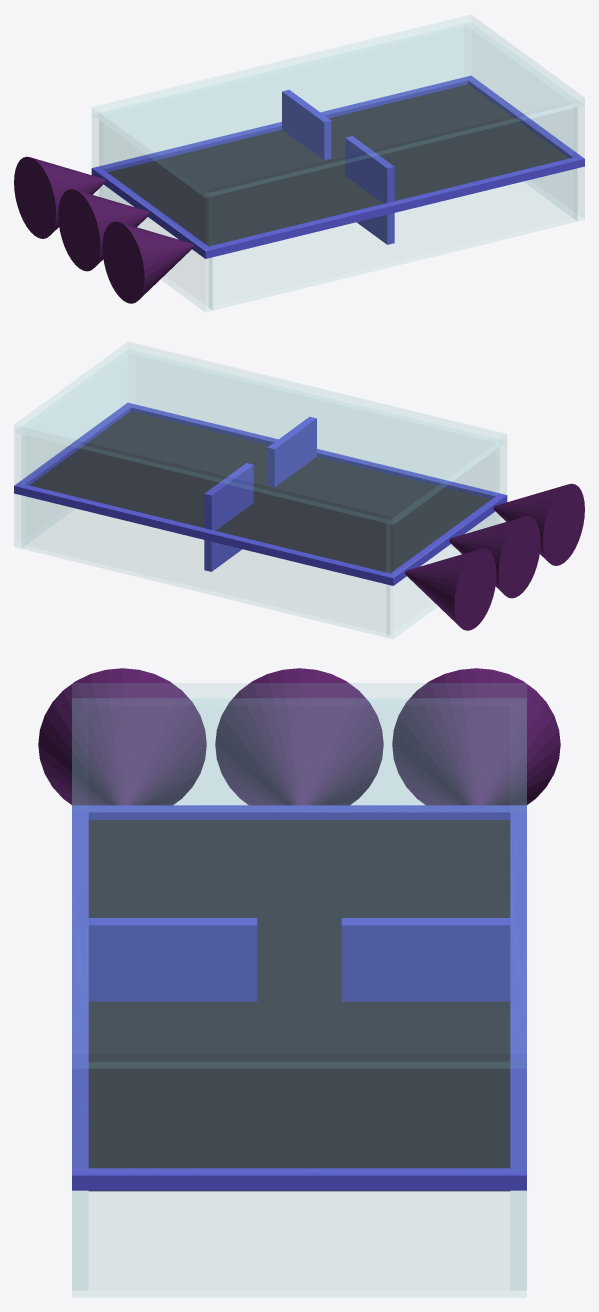
The model's file is basic.glb.
The picture shows the model from 3 angles, top to bottom: view 1: azimuth 30°, elevation 25°; view 2: azimuth 150°, elevation 25°; view 3: azimuth 270°, elevation 25°; orthographic projection. The views are drawn at different scales.
Parts seen in each view (by area): view 1: gds.002, Cube.008, Cube, Cube.010, gds.001, gds, Cone.001, Cube.002, Cone.002, Cone, Cube.006, Cube.001 (+3 smaller); view 2: gds.002, Cube.010, Cube, Cube.008, gds.001, gds, Cone.002, Cube.001, Cone.001, Cone, Cube.004, Cube.002 (+3 smaller); view 3: gds.002, Cube, gds, gds.001, Cone.001, Cone.002, Cone, Cube.004, Cube.006, Cube.003, Cube.005, Cube.001 (+3 smaller).
Boxes of the visible parts, box(x1,y1,x2,y2) form: gds.002: box(92, 15, 584, 197); Cube.008: box(209, 105, 576, 309); Cube: box(107, 84, 569, 246); Cube.010: box(99, 24, 463, 219); gds.001: box(92, 113, 211, 311); gds: box(466, 23, 584, 220); Cone.001: box(102, 221, 193, 303); Cube.002: box(209, 157, 577, 256); Cone.002: box(14, 156, 105, 238); Cone: box(58, 189, 149, 271); Cube.006: box(345, 136, 394, 244); Cube.001: box(99, 77, 467, 172); gds.002: box(14, 342, 506, 524); Cube.010: box(22, 432, 389, 636); Cube: box(29, 411, 491, 573); Cube.008: box(135, 351, 499, 546); gds.001: box(387, 440, 506, 638); gds: box(14, 350, 132, 547); Cone.002: box(405, 548, 496, 630); Cube.001: box(21, 484, 389, 583); Cone.001: box(493, 483, 584, 565); Cone: box(449, 516, 540, 598); Cube.004: box(204, 463, 253, 571); Cube.002: box(131, 404, 499, 499); gds.002: box(72, 683, 526, 1067); Cube: box(88, 820, 510, 1191); gds: box(72, 1062, 526, 1296); gds.001: box(72, 699, 526, 811); Cone.001: box(38, 668, 206, 805); Cone.002: box(392, 668, 560, 805); Cone: box(215, 668, 383, 805); Cube.004: box(341, 918, 510, 1001); Cube.006: box(88, 918, 257, 1001); Cube.003: box(72, 1168, 526, 1190); Cube.005: box(72, 805, 526, 819); Cube.001: box(510, 812, 526, 1168).
Size of the model in its own units: 123 by 32 by 62.
